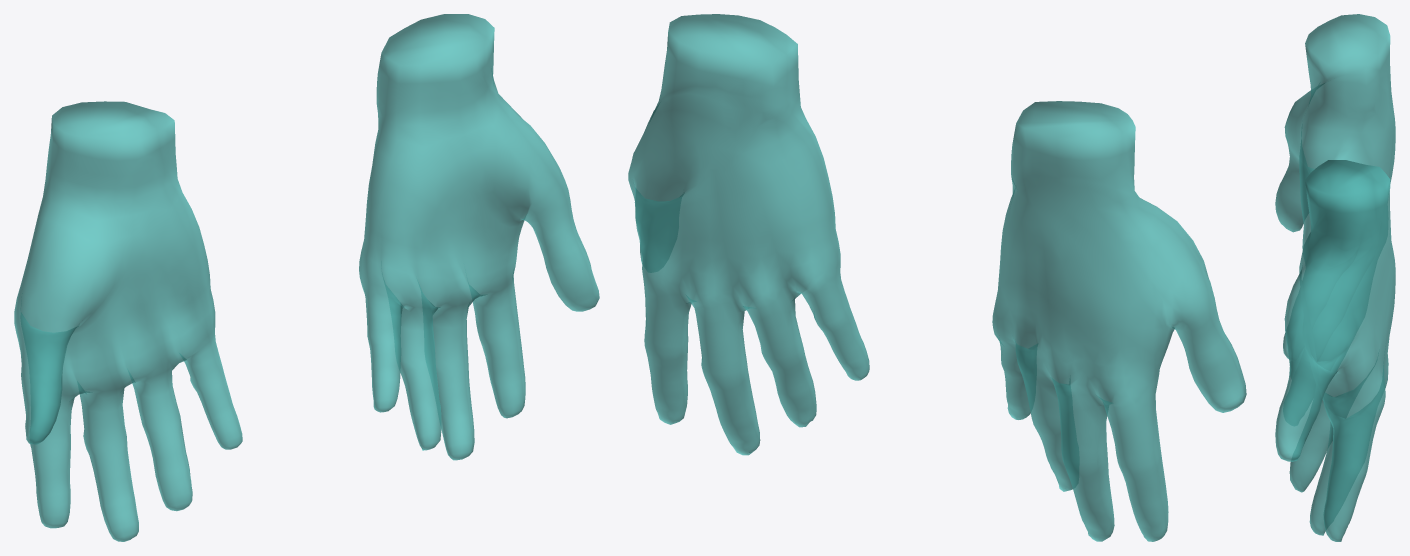
Rendered from handsModelV4.fbx.
3 views of the same model, side by side, from view 1: azimuth 30°, elevation 25°; view 2: azimuth 150°, elevation 25°; view 3: azimuth 270°, elevation 25° (orthographic). The views are drawn at different scales.
Visible parts, largest first — view 1: handR, handL; view 2: handL, handR; view 3: handL, handR.
Boxes of the visible parts, <box> form: handR: <box>14,101,242,541</box>; handL: <box>359,14,599,460</box>; handL: <box>628,14,869,455</box>; handR: <box>992,101,1246,541</box>; handL: <box>1275,160,1395,541</box>; handR: <box>1275,14,1395,367</box>.
Bounding box in the file's own units: 286 × 198 × 60.31.
